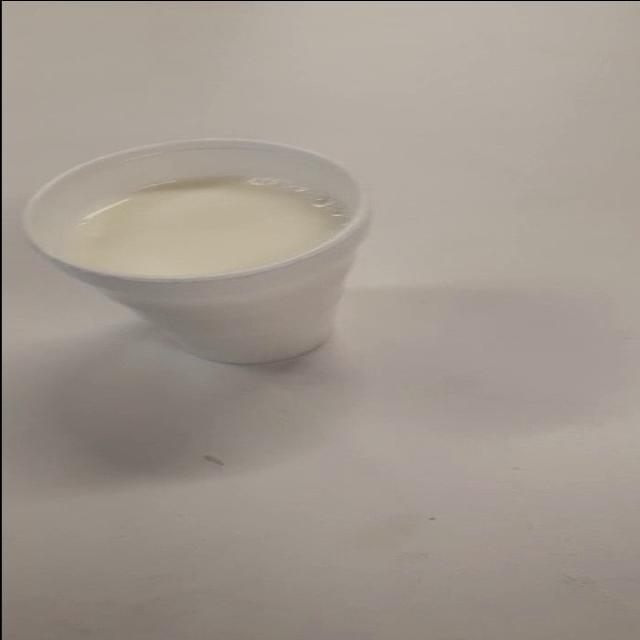Milk: (27, 122, 450, 377)
